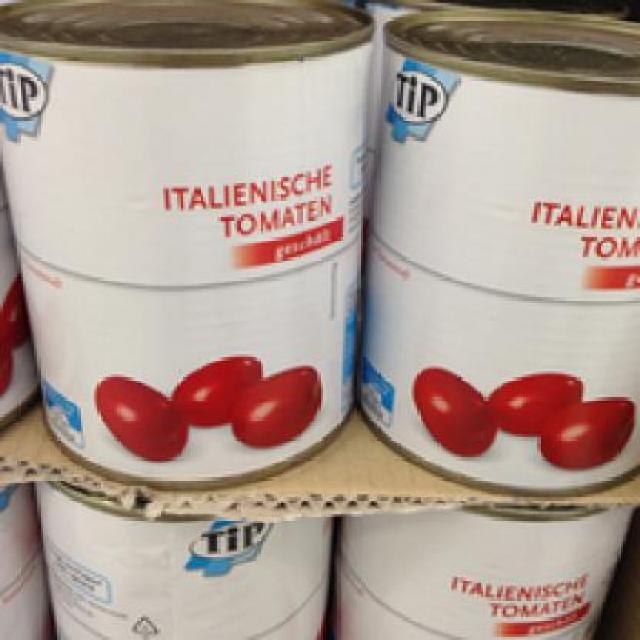Tomato Sauce: (0, 0, 372, 486), (352, 6, 638, 494)
